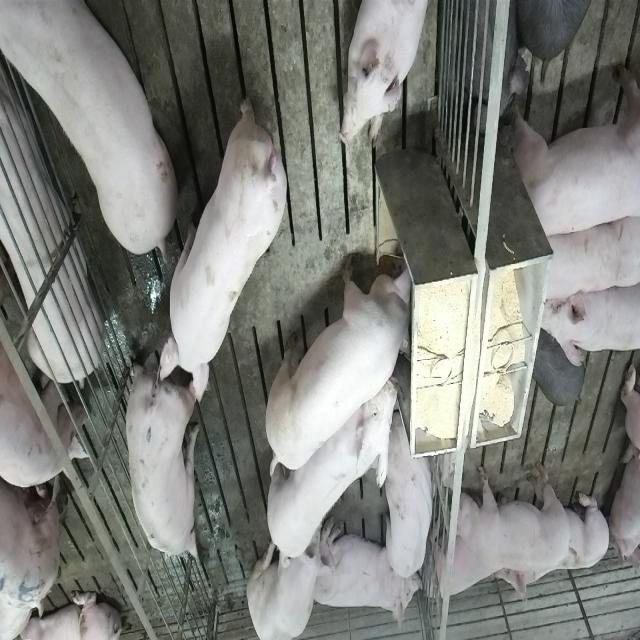Feeding: (269, 251, 422, 476)
Sitting: (246, 509, 332, 639), (382, 421, 437, 579)
Standing: (0, 0, 174, 258), (164, 86, 294, 402), (262, 368, 398, 564), (509, 60, 638, 244), (122, 340, 202, 566), (447, 462, 576, 574), (534, 210, 638, 310), (535, 272, 640, 366)
Sternal_lying: (494, 481, 608, 610), (339, 0, 434, 149), (314, 510, 424, 628), (426, 520, 500, 604)
